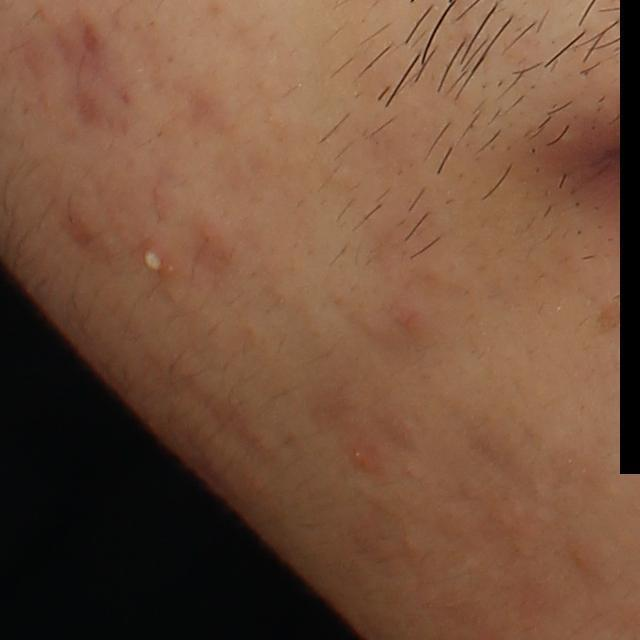papule: (343, 436, 389, 483)
pustule: (134, 235, 171, 286)
